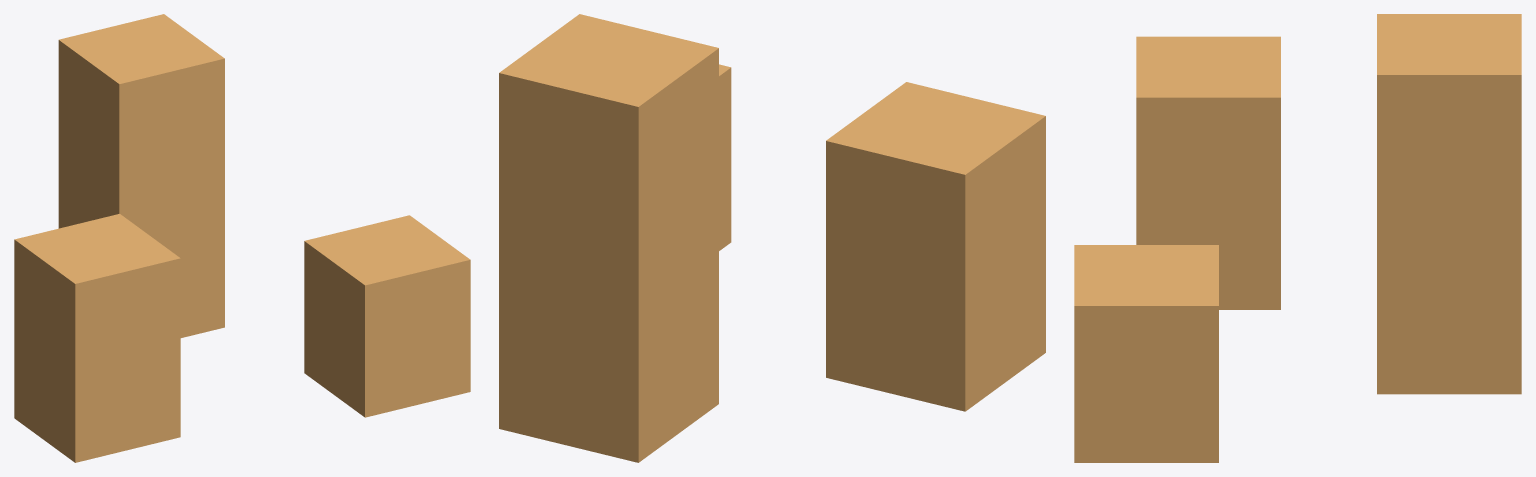
The model's file is grass3.fbx.
3 renders of one model, left to right at view 1: azimuth 30°, elevation 25°; view 2: azimuth 150°, elevation 25°; view 3: azimuth 270°, elevation 25°, orthographic. The views are drawn at different scales.
Parts seen in each view (by area): view 1: Plane.039; view 2: Plane.039; view 3: Plane.039.
Boxes of the visible parts, x1,y1,x2,y2 form: Plane.039: (14,14,470,462); Plane.039: (499,14,1045,462); Plane.039: (1074,14,1521,462).
Size of the model in its own units: 192 by 134 by 170.
